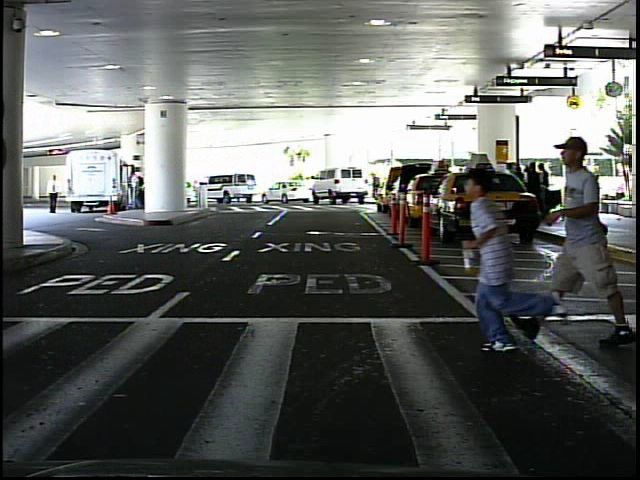person: (535, 121, 630, 357), (466, 154, 564, 357), (588, 172, 607, 218), (46, 173, 64, 217), (369, 171, 384, 203)
